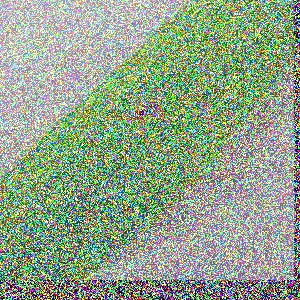Bacterial_Leaf_Blight: (124, 96, 168, 125)
